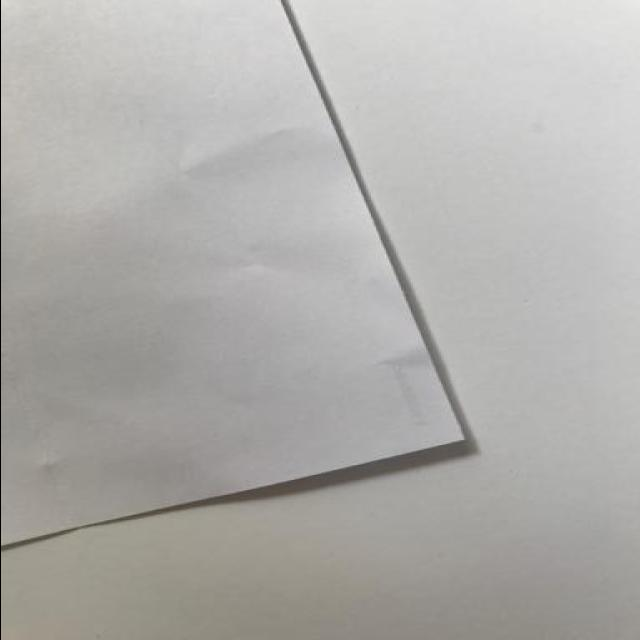kertas: (0, 0, 474, 554)
